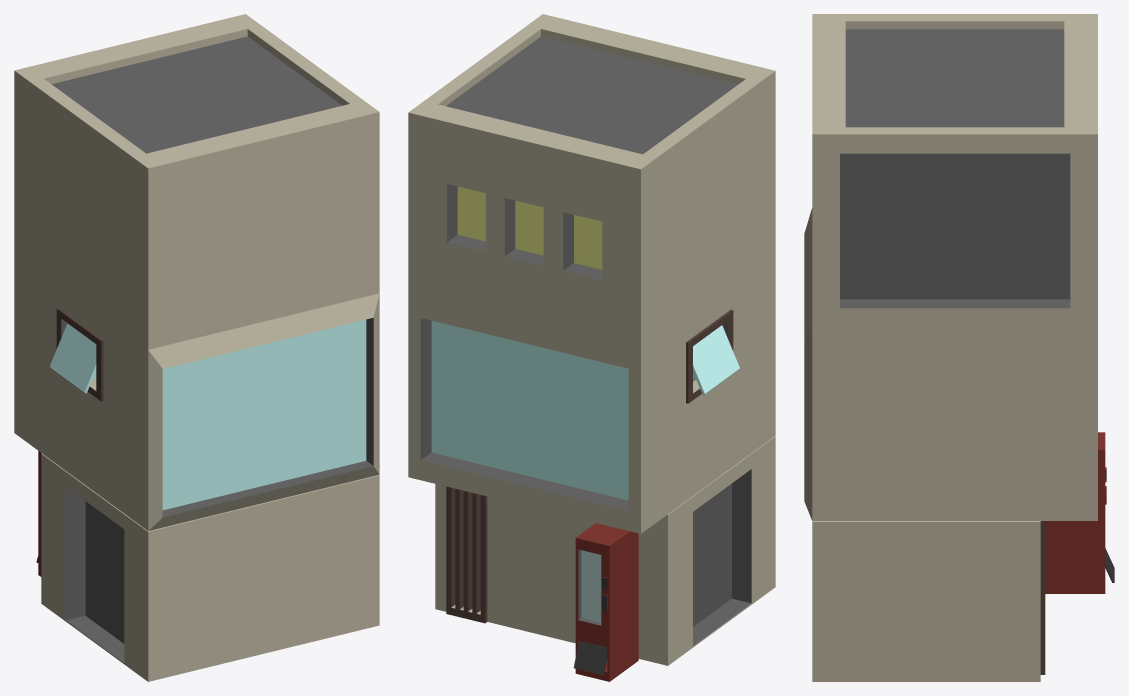
The model's file is Edificio3.fbx.
3 views of the same model, side by side, from view 1: azimuth 30°, elevation 25°; view 2: azimuth 150°, elevation 25°; view 3: azimuth 270°, elevation 25° (orthographic). The views are drawn at different scales.
Visible parts, largest first — view 1: edifico3; view 2: edifico3; view 3: edifico3.
Part boxes in pixels (x1,y1,x2,y2): edifico3: [14, 14, 379, 681]; edifico3: [408, 14, 775, 681]; edifico3: [804, 14, 1114, 681].
Size of the model in its own units: 100 by 200 by 103.
